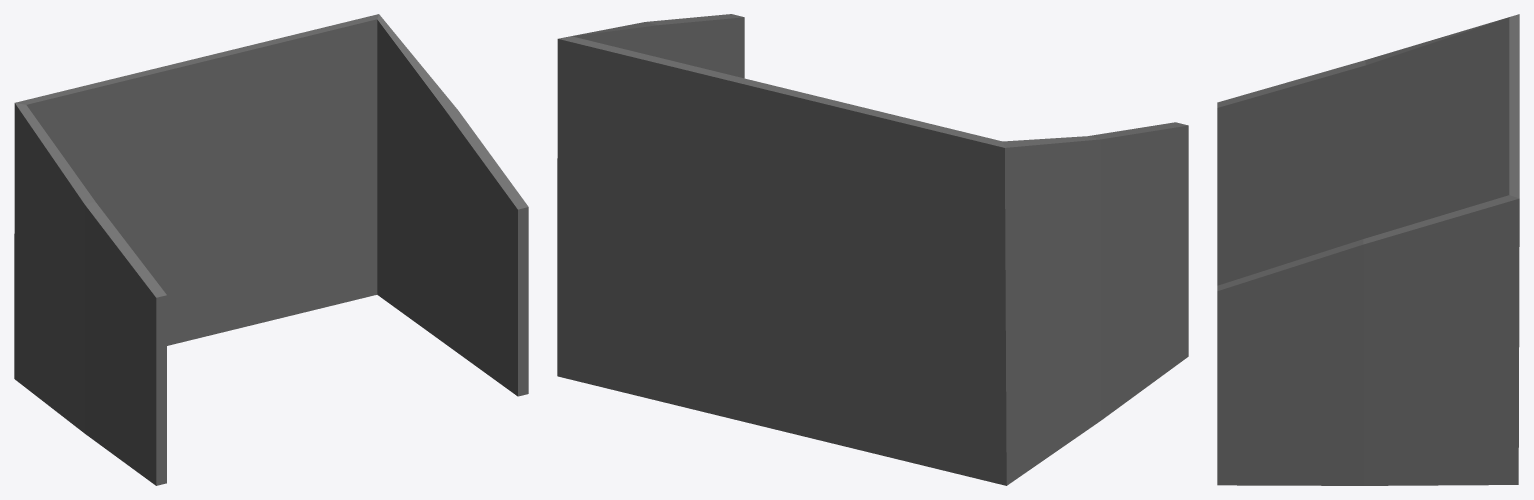
Rendered from Tablearound.fbx.
The picture shows the model from 3 angles, left to right: view 1: azimuth 30°, elevation 25°; view 2: azimuth 150°, elevation 25°; view 3: azimuth 270°, elevation 25°; orthographic projection. The views are drawn at different scales.
Parts seen in each view (by area): view 1: Tablearound; view 2: Tablearound; view 3: Tablearound.
Part boxes in pixels (box(x1,y1,x2,y2)): Tablearound: box(14, 14, 528, 485); Tablearound: box(557, 14, 1188, 485); Tablearound: box(1217, 14, 1519, 485).
Bounding box in the file's own units: 660 × 466 × 447.
